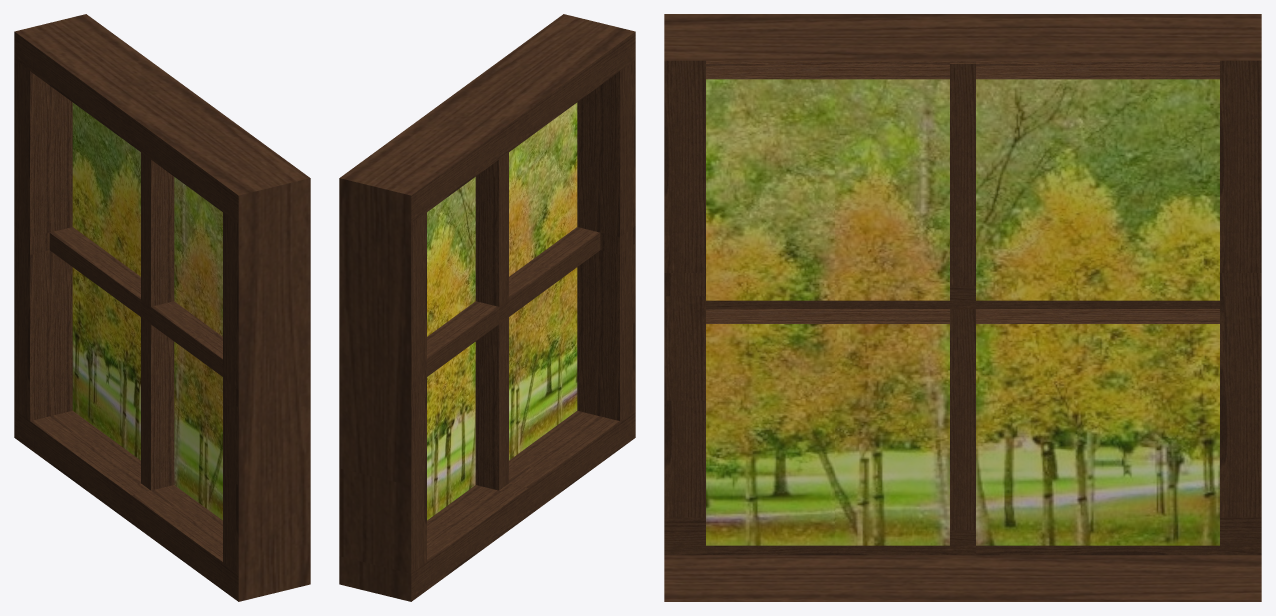
Rendered from WindowTextured.fbx.
3 renders of one model, left to right at view 1: azimuth 30°, elevation 25°; view 2: azimuth 150°, elevation 25°; view 3: azimuth 270°, elevation 25°, orthographic. The views are drawn at different scales.
Visible parts, largest first — view 1: Cube; view 2: Cube; view 3: Cube.
Part boxes in pixels (x1,y1,x2,y2): Cube: (14,14,310,601); Cube: (339,14,635,601); Cube: (664,14,1261,601).
Bounding box in the file's own units: 37 × 200 × 200.
Materials: 1 (1 with a texture image).
